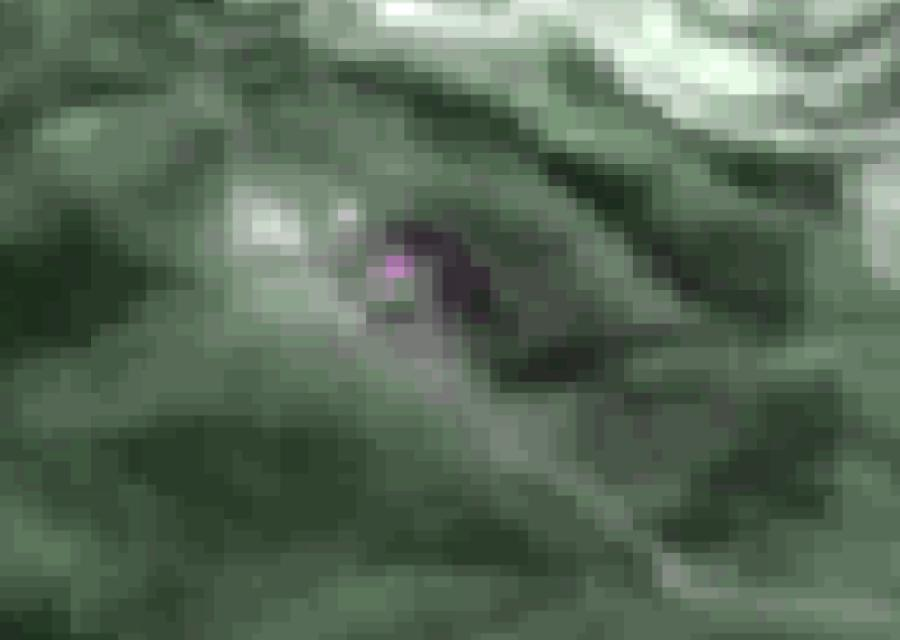Potential Lime Manufacturing Facility: (388, 254, 414, 279)
